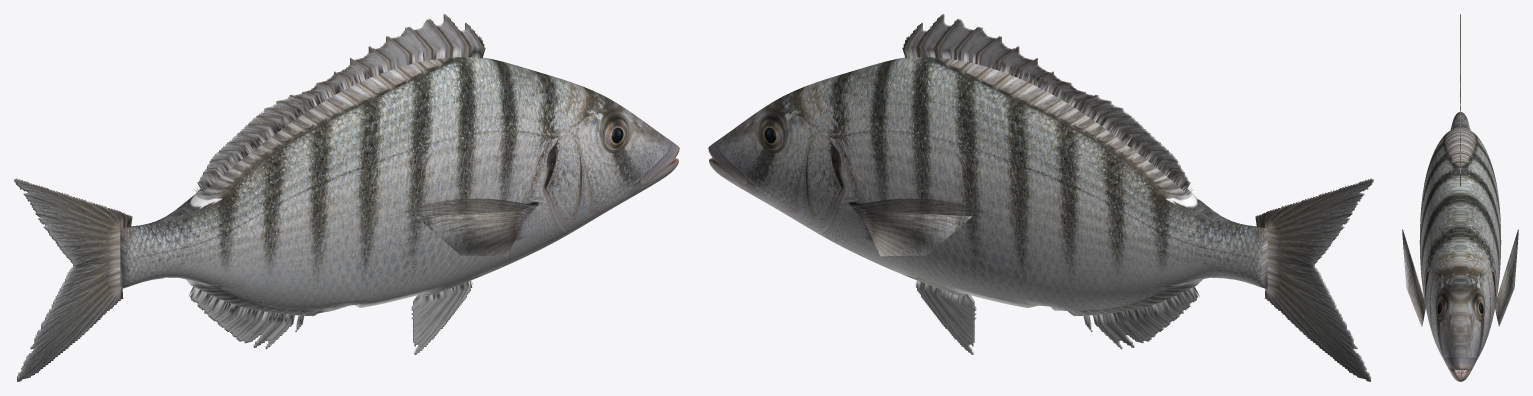
Rendered from white_steenbras.glb.
The picture shows the model from 3 angles, left to right: view 1: azimuth 30°, elevation 25°; view 2: azimuth 150°, elevation 25°; view 3: azimuth 270°, elevation 25°; orthographic projection. The views are drawn at different scales.
Visible parts, largest first — view 1: white_steenbras_realistic; view 2: white_steenbras_realistic; view 3: white_steenbras_realistic.
Part boxes in pixels (x1,y1,x2,y2): white_steenbras_realistic: (14, 14, 679, 381); white_steenbras_realistic: (708, 14, 1373, 381); white_steenbras_realistic: (1402, 14, 1518, 381).
Bounding box in the file's own units: 1 × 0.4789 × 0.1954.
Materials: 3 (3 with a texture image).
